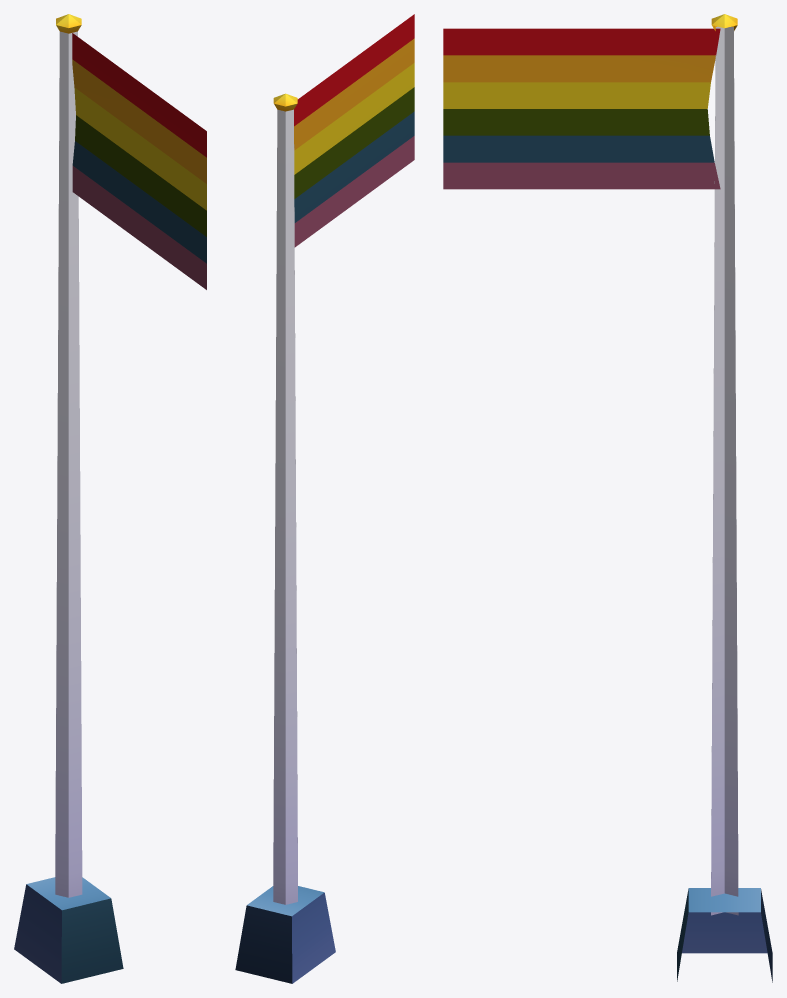
File: 1.100_SanFrancisco_extra_07.glb
The picture shows the model from 3 angles, left to right: view 1: azimuth 30°, elevation 25°; view 2: azimuth 150°, elevation 25°; view 3: azimuth 270°, elevation 25°; orthographic projection. The views are drawn at different scales.
Visible parts, largest first — view 1: 1.100_SanFrancisco_extra_07; view 2: 1.100_SanFrancisco_extra_07; view 3: 1.100_SanFrancisco_extra_07.
Part boxes in pixels (box(x1,y1,x2,y2)): 1.100_SanFrancisco_extra_07: box(14, 14, 206, 983); 1.100_SanFrancisco_extra_07: box(235, 14, 414, 983); 1.100_SanFrancisco_extra_07: box(443, 14, 772, 982).
Size of the model in its own units: 4.04 by 58.76 by 18.37.
Materials: 1 (1 with a texture image).
